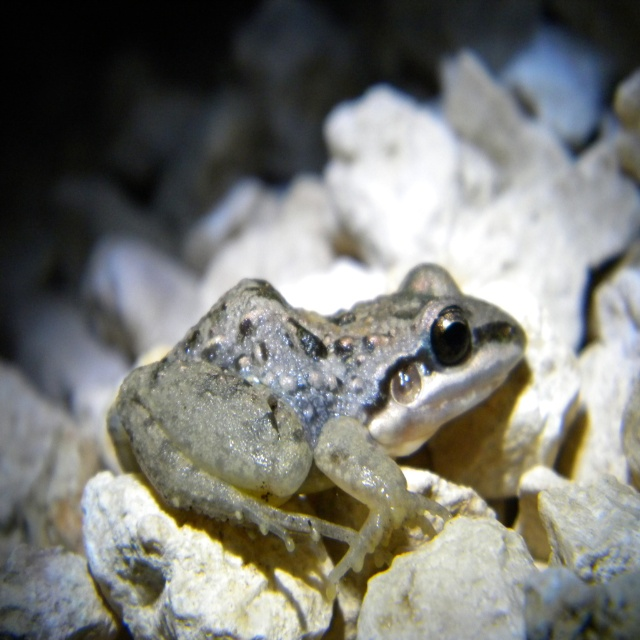Frog: (107, 261, 526, 597)
